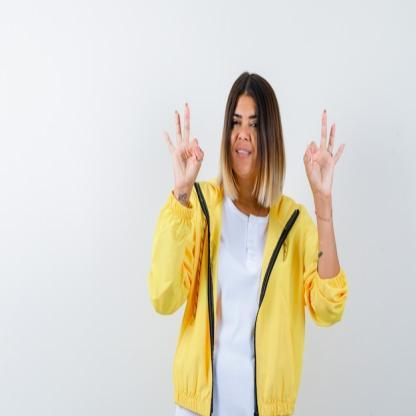ok: (158, 96, 211, 203), (301, 102, 349, 212)
